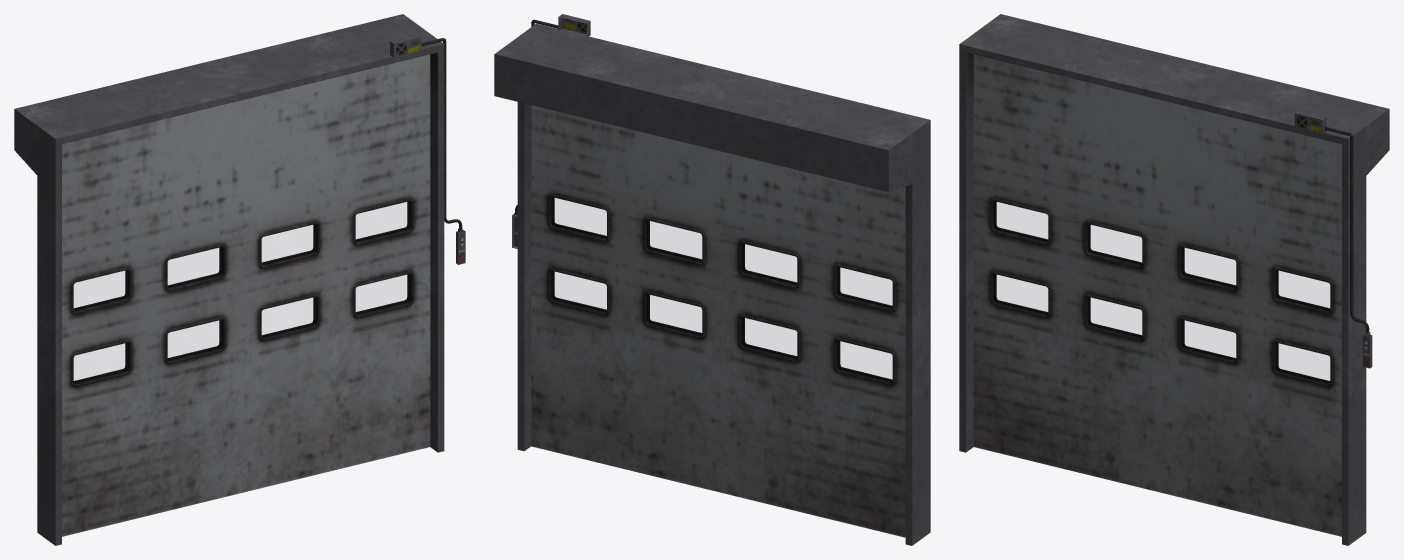
The model's file is Rollup Door 10.glb.
3 views of the same model, side by side, from view 1: azimuth 30°, elevation 25°; view 2: azimuth 150°, elevation 25°; view 3: azimuth 330°, elevation 25° (orthographic).
Parts seen in each view (by area): view 1: Rollup_Door_10_Door, Rollup_Door_10_Door_Frame, Rollup_Door_10_Control_Switch; view 2: Rollup_Door_10_Door, Rollup_Door_10_Door_Frame, Rollup_Door_10_Control_Switch; view 3: Rollup_Door_10_Door, Rollup_Door_10_Door_Frame, Rollup_Door_10_Control_Switch.
Boxes of the visible parts, <box> form: Rollup_Door_10_Door: <box>62,54,430,536</box>; Rollup_Door_10_Door_Frame: <box>14,14,444,545</box>; Rollup_Door_10_Control_Switch: <box>390,34,465,264</box>; Rollup_Door_10_Door: <box>531,105,905,537</box>; Rollup_Door_10_Door_Frame: <box>494,23,930,545</box>; Rollup_Door_10_Control_Switch: <box>512,14,590,248</box>; Rollup_Door_10_Door: <box>973,54,1341,536</box>; Rollup_Door_10_Door_Frame: <box>959,14,1389,545</box>; Rollup_Door_10_Control_Switch: <box>1294,110,1372,368</box>.
Bounding box in the file's own units: 3.17 × 3.1 × 0.5721.
Materials: 2 (2 with a texture image).
